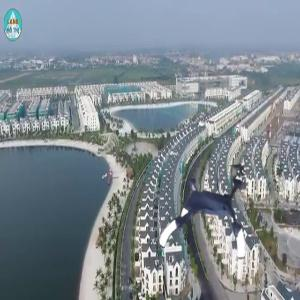drone: (156, 169, 252, 265)
